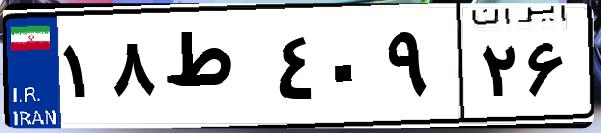0: (330, 28, 385, 110)
1: (57, 26, 110, 100)
2: (475, 38, 525, 113)
4: (270, 28, 330, 110)
6: (525, 38, 570, 115)
8: (110, 28, 158, 98)
9: (385, 28, 445, 110)
ط: (158, 20, 270, 120)
